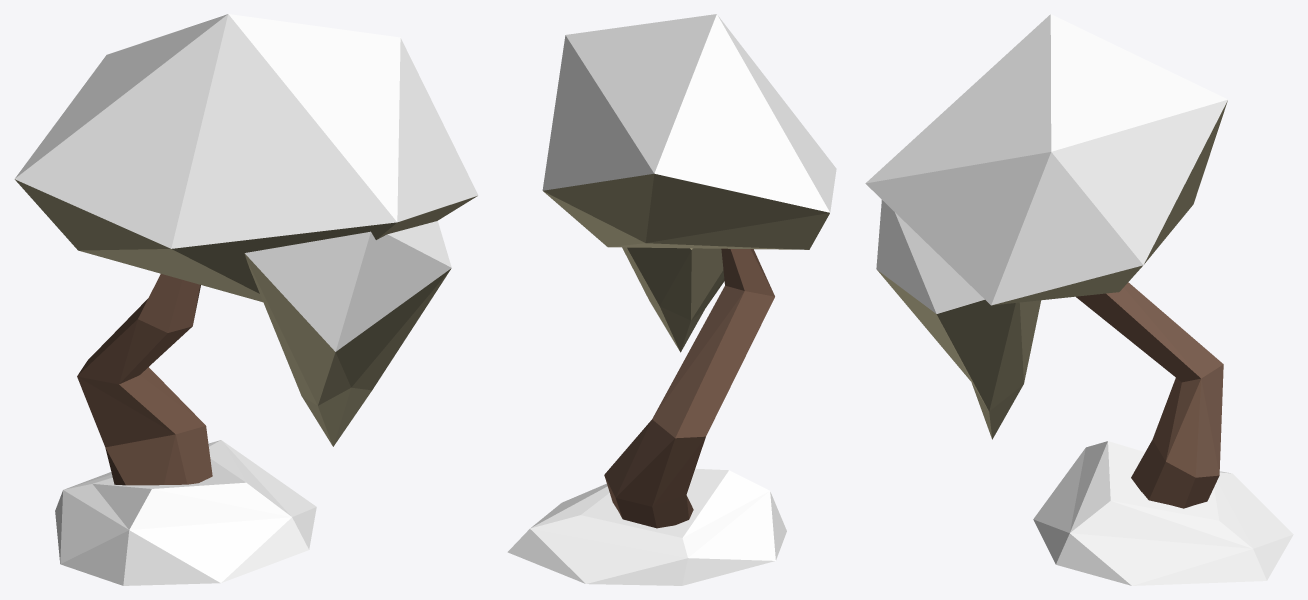
Rendered from TreeWinter3_Alt3.fbx.
The picture shows the model from 3 angles, left to right: view 1: azimuth 30°, elevation 25°; view 2: azimuth 150°, elevation 25°; view 3: azimuth 270°, elevation 25°; orthographic projection. The views are drawn at different scales.
Parts seen in each view (by area): view 1: TreeWinter3_Alt3; view 2: TreeWinter3_Alt3; view 3: TreeWinter3_Alt3.
Boxes of the visible parts, x1,y1,x2,y2 form: TreeWinter3_Alt3: [14, 14, 478, 585]; TreeWinter3_Alt3: [507, 14, 836, 585]; TreeWinter3_Alt3: [865, 14, 1293, 585].
Size of the model in its own units: 1.23 by 1.69 by 1.28.
